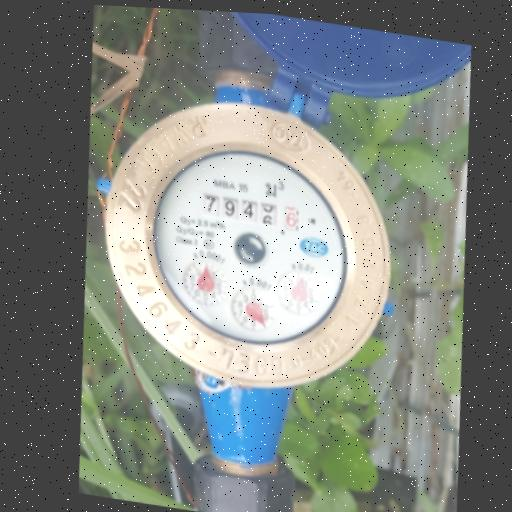5: (241, 200, 258, 223)
6: (283, 206, 300, 231), (261, 203, 278, 226)
7: (202, 195, 221, 217)
9: (222, 197, 239, 220)
border_water_meter_number: (199, 191, 302, 232)
